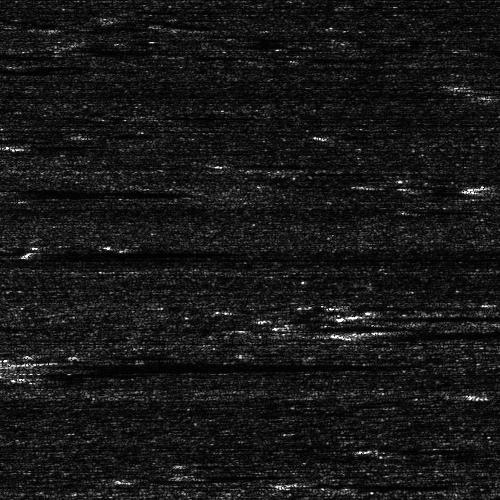object: (0, 355, 80, 382), (286, 328, 443, 339), (264, 477, 357, 486), (3, 248, 76, 257), (431, 389, 500, 398), (431, 181, 500, 190), (253, 323, 336, 330), (436, 81, 489, 88), (154, 471, 207, 476), (333, 312, 386, 317), (0, 188, 22, 197), (0, 141, 12, 148)
shadow: (12, 355, 259, 382), (40, 248, 225, 257), (311, 477, 489, 486), (0, 188, 170, 197), (365, 328, 500, 339), (295, 323, 500, 330), (360, 312, 500, 317), (0, 141, 88, 148), (181, 471, 294, 476), (468, 389, 500, 398), (468, 181, 500, 190), (462, 81, 500, 88)
